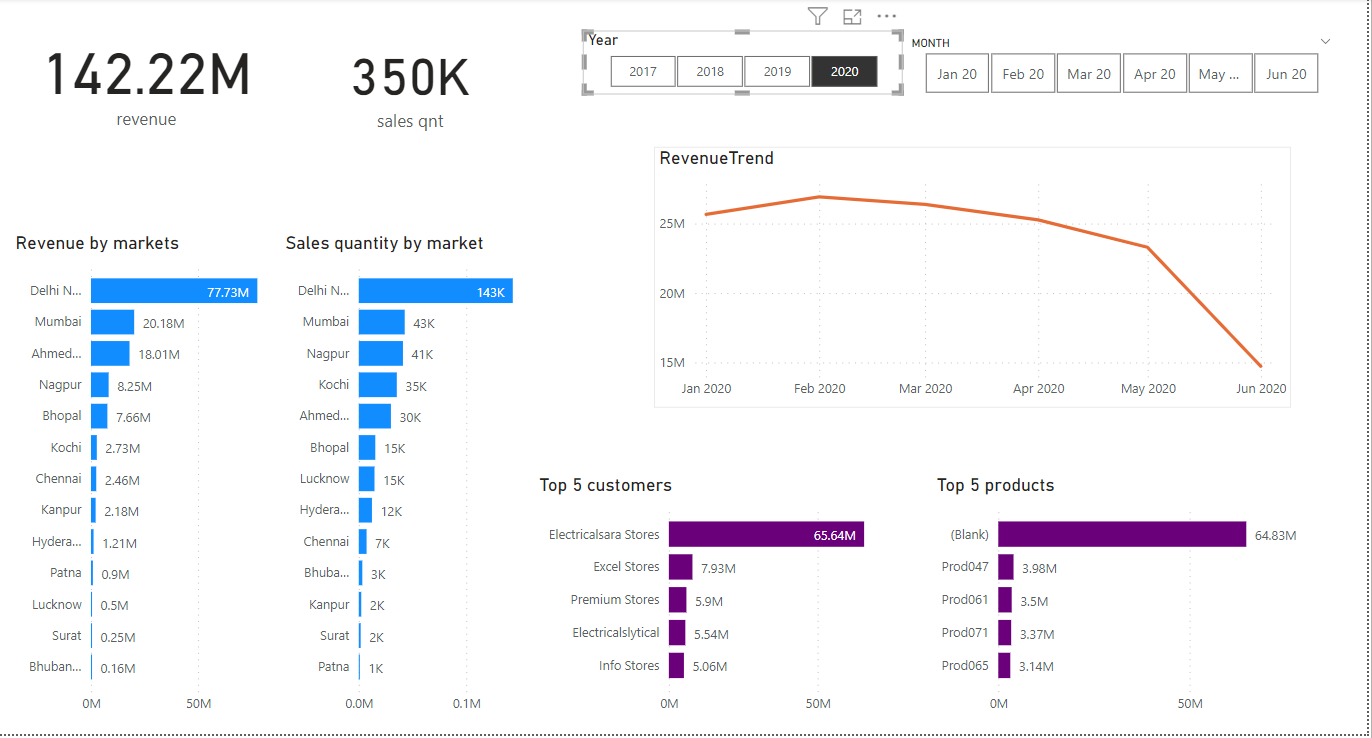

The page's visual inventory and layout, read from the dashboard file:
{"tool":"powerbi","page":{"name":"Page 1","canvas":[1286,692],"ordinal":0},"visuals":[{"type":"card","fields":{"Values":["basemeasures.revenue"]},"box":[12.9,10.6,251.4,129.2],"z":0},{"type":"card","fields":{"Values":["basemeasures.sales qnt"]},"box":[290.2,0,192.7,159.8],"z":1000},{"type":"barChart","title":"Revenue by markets","fields":{"Y":["basemeasures.revenue"],"Category":["sales markets.markets_name"]},"box":[10.6,219.7,253.8,461.7],"z":2000},{"type":"barChart","title":"Sales quantity by market","fields":{"Y":["basemeasures.sales qnt"],"Category":["sales markets.markets_name"]},"box":[264.3,219.7,244.4,461.7],"z":3000},{"type":"slicer","fields":{"Values":["sales date.cy_date"]},"box":[844.7,30.5,419.4,65.8],"z":4000},{"type":"barChart","title":"Top 5 customers","fields":{"Category":["sales customers.custmer_name"],"Y":["basemeasures.revenue"]},"box":[502.8,447.6,367.7,233.8],"z":5000},{"type":"slicer","title":"Year","fields":{"Values":["sales date.year"]},"box":[548.7,30.5,300.8,59.9],"z":6000},{"type":"barChart","title":"Top 5 products","fields":{"Y":["basemeasures.revenue"],"Category":["sales products.product_code"]},"box":[876.5,447.6,367.7,233.8],"z":7000},{"type":"lineChart","title":"RevenueTrend","fields":{"Y":["basemeasures.revenue"],"Category":["sales date.cy_date.Variation.Date Hierarchy.Year","sales date.cy_date.Variation.Date Hierarchy.Quarter","sales date.cy_date.Variation.Date Hierarchy.Month","sales date.cy_date.Variation.Date Hierarchy.Day"]},"box":[615.6,139.8,599.2,245.5],"z":8000}]}

Visuals, with their boxes in screenshot pixels (x1, y1, x2, y2), scaled from the page's 1286x692 canvas onto the 1372x738 screenshot:
card - basemeasures.revenue: detection(14, 11, 282, 149)
card - basemeasures.sales qnt: detection(310, 0, 515, 170)
"Revenue by markets" barChart: detection(11, 234, 282, 727)
"Sales quantity by market" barChart: detection(282, 234, 543, 727)
slicer - sales date.cy_date: detection(901, 33, 1349, 103)
"Top 5 customers" barChart: detection(536, 477, 929, 727)
"Year" slicer: detection(585, 33, 906, 96)
"Top 5 products" barChart: detection(935, 477, 1327, 727)
"RevenueTrend" lineChart: detection(657, 149, 1296, 411)
